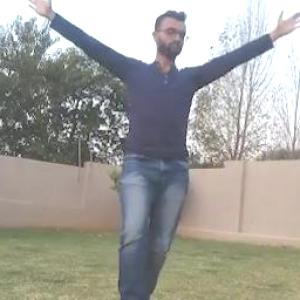takeoff: (53, 0, 287, 299)
